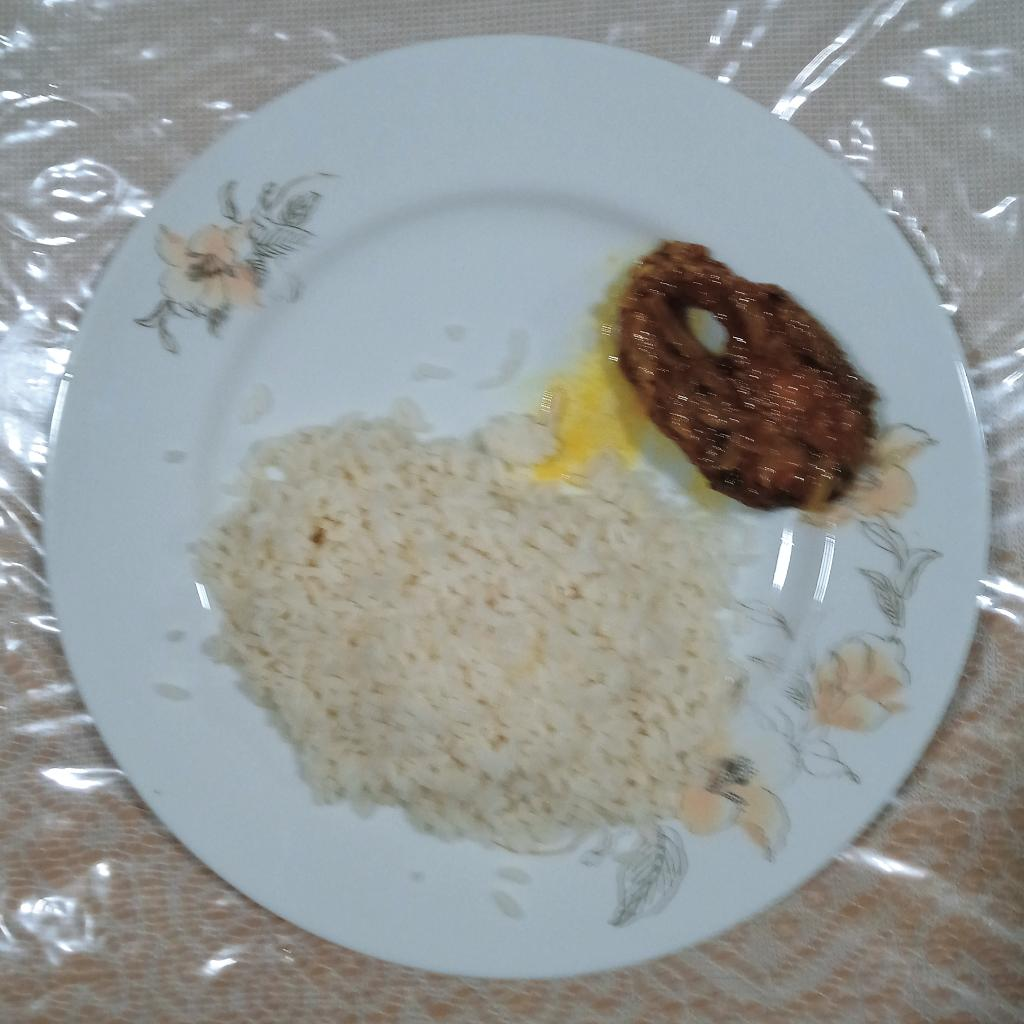fish: (615, 240, 877, 515)
rice: (195, 401, 760, 853)
